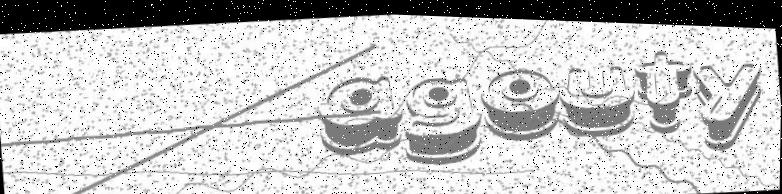a: (314, 68, 406, 157)
g: (399, 68, 486, 166)
o: (478, 59, 565, 141)
t: (632, 41, 698, 132)
u: (556, 57, 640, 137)
y: (691, 53, 767, 150)
